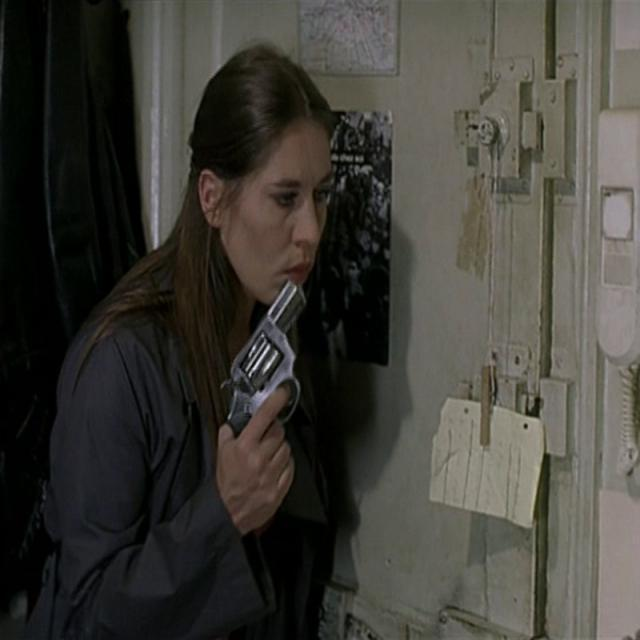gun-knife-thesis - v11 Yolov5 augmented: (215, 275, 310, 512)
